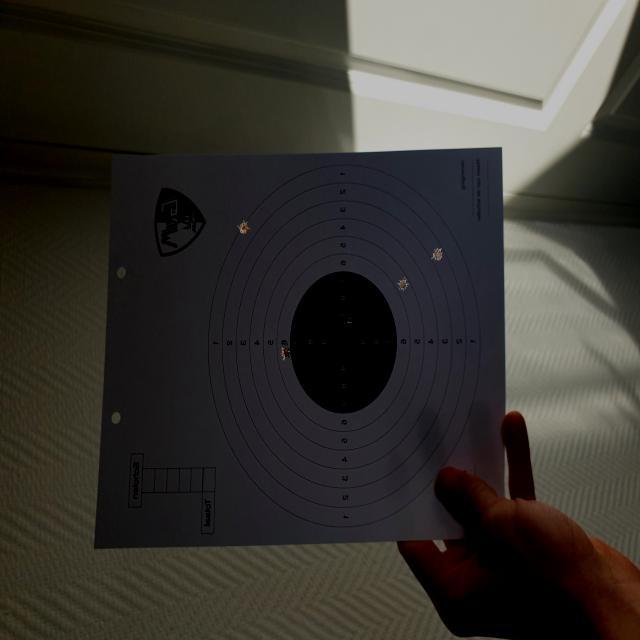1: (238, 220, 249, 234)
10: (341, 314, 353, 328)
2: (431, 248, 443, 261)
5: (397, 277, 409, 291)
7: (280, 344, 292, 361)
Target: (208, 164, 481, 530)
black_contour: (290, 271, 397, 414)
